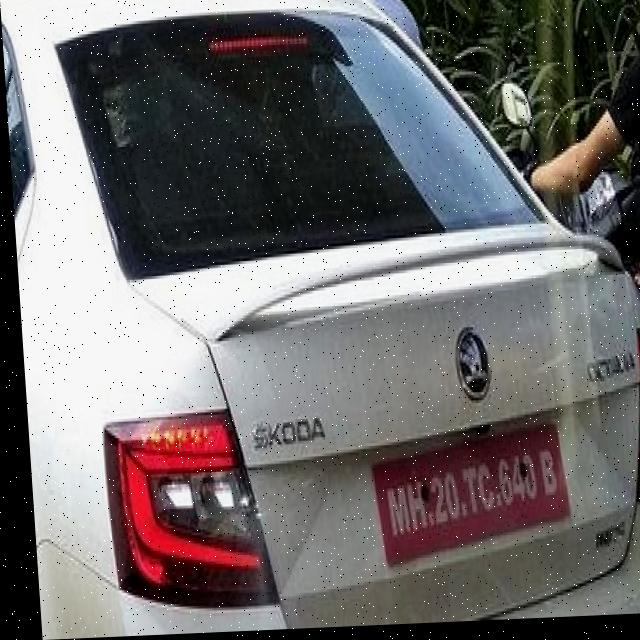plate: (363, 431, 564, 589)
